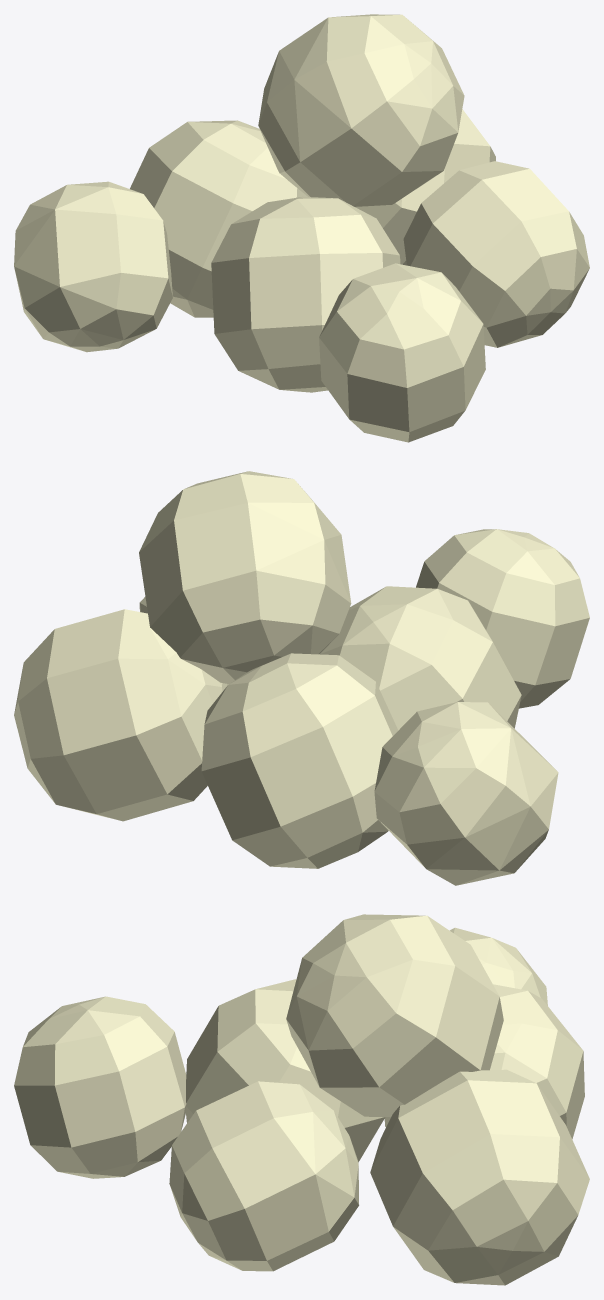
The model's file is Piile of Orange Peppers1.fbx.
3 renders of one model, top to bottom at view 1: azimuth 30°, elevation 25°; view 2: azimuth 150°, elevation 25°; view 3: azimuth 270°, elevation 25°, orthographic. The views are drawn at different scales.
Visible parts, largest first — view 1: Piile of Orange Peppers1; view 2: Piile of Orange Peppers1; view 3: Piile of Orange Peppers1.
Part boxes in pixels (<box>): Piile of Orange Peppers1: <box>14,14,589,442</box>; Piile of Orange Peppers1: <box>14,471,589,885</box>; Piile of Orange Peppers1: <box>14,914,589,1285</box>.
Bounding box in the file's own units: 20.37 × 12.56 × 20.4.
